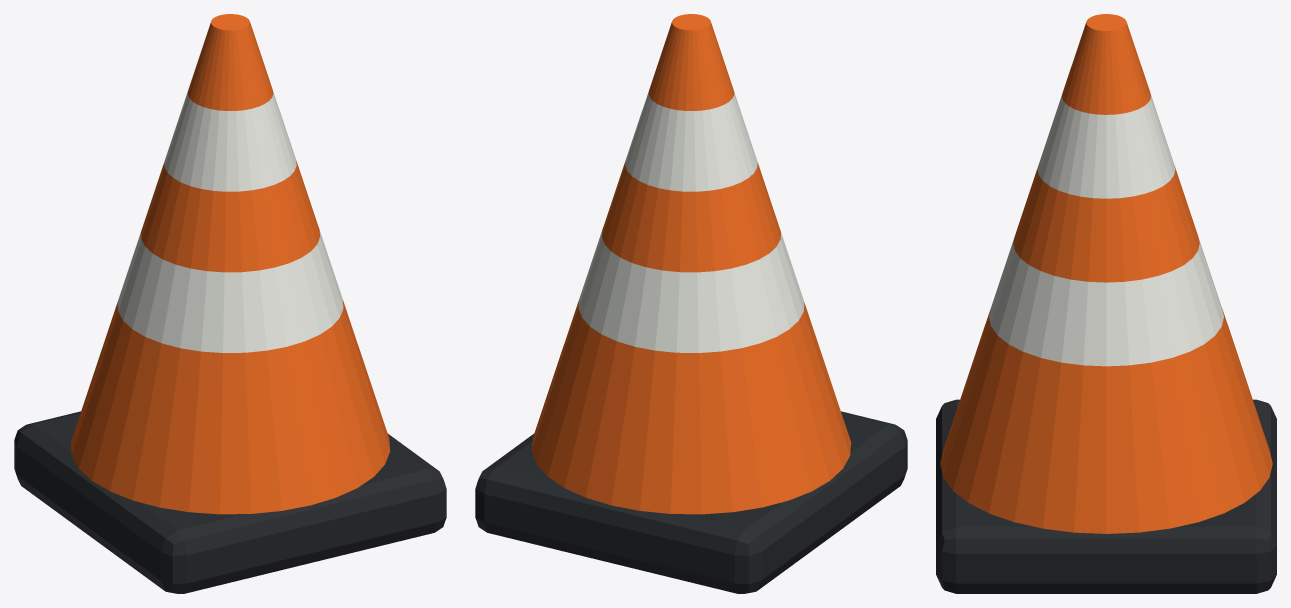
Rendered from work-cone.glb.
3 renders of one model, left to right at view 1: azimuth 30°, elevation 25°; view 2: azimuth 150°, elevation 25°; view 3: azimuth 270°, elevation 25°, orthographic. The views are drawn at different scales.
Parts seen in each view (by area): view 1: Weighted rubber foot, 锥体, 锥体.001, 锥体.002, 锥体.003, 锥体.004, 锥体.005; view 2: Weighted rubber foot, 锥体, 锥体.001, 锥体.002, 锥体.003, 锥体.004, 锥体.005; view 3: 锥体, Weighted rubber foot, 锥体.001, 锥体.002, 锥体.003, 锥体.004, 锥体.005.
Boxes of the visible parts, bbox=[...] form: Weighted rubber foot: bbox=[14, 411, 446, 593]; 锥体: bbox=[70, 369, 390, 514]; 锥体.001: bbox=[94, 299, 366, 433]; 锥体.002: bbox=[117, 230, 343, 352]; 锥体.003: bbox=[141, 161, 319, 272]; 锥体.004: bbox=[164, 91, 296, 191]; 锥体.005: bbox=[187, 14, 273, 110]; Weighted rubber foot: bbox=[475, 411, 907, 593]; 锥体: bbox=[531, 369, 851, 514]; 锥体.001: bbox=[555, 299, 827, 433]; 锥体.002: bbox=[578, 230, 804, 352]; 锥体.003: bbox=[602, 161, 780, 272]; 锥体.004: bbox=[625, 91, 757, 191]; 锥体.005: bbox=[648, 14, 734, 110]; 锥体: bbox=[940, 380, 1272, 533]; Weighted rubber foot: bbox=[936, 399, 1276, 593]; 锥体.001: bbox=[964, 309, 1248, 450]; 锥体.002: bbox=[989, 237, 1223, 366]; 锥体.003: bbox=[1013, 165, 1199, 282]; 锥体.004: bbox=[1037, 94, 1175, 198]; 锥体.005: bbox=[1062, 14, 1150, 114].
Size of the model in its own units: 0.42 by 0.69 by 0.42.
